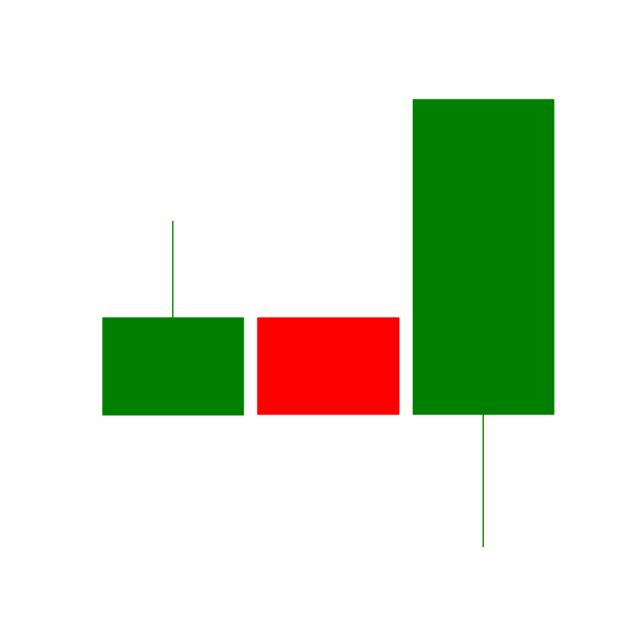Marubozu: (249, 316, 406, 414)
